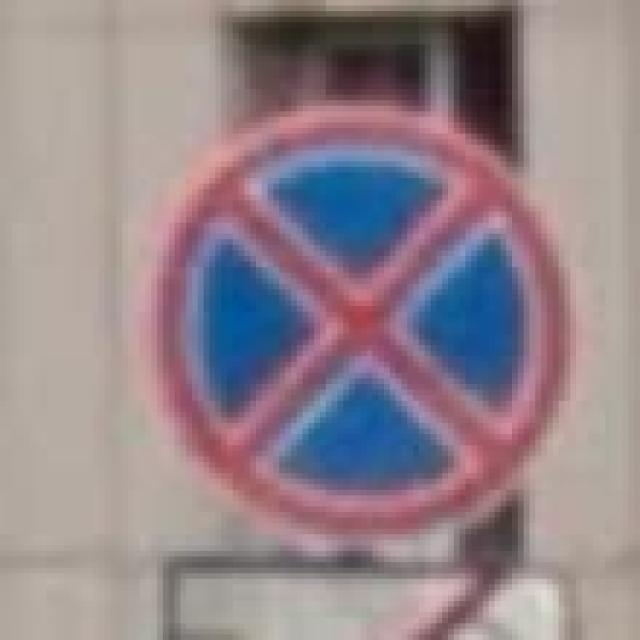traffic_sign: (140, 100, 576, 546)
